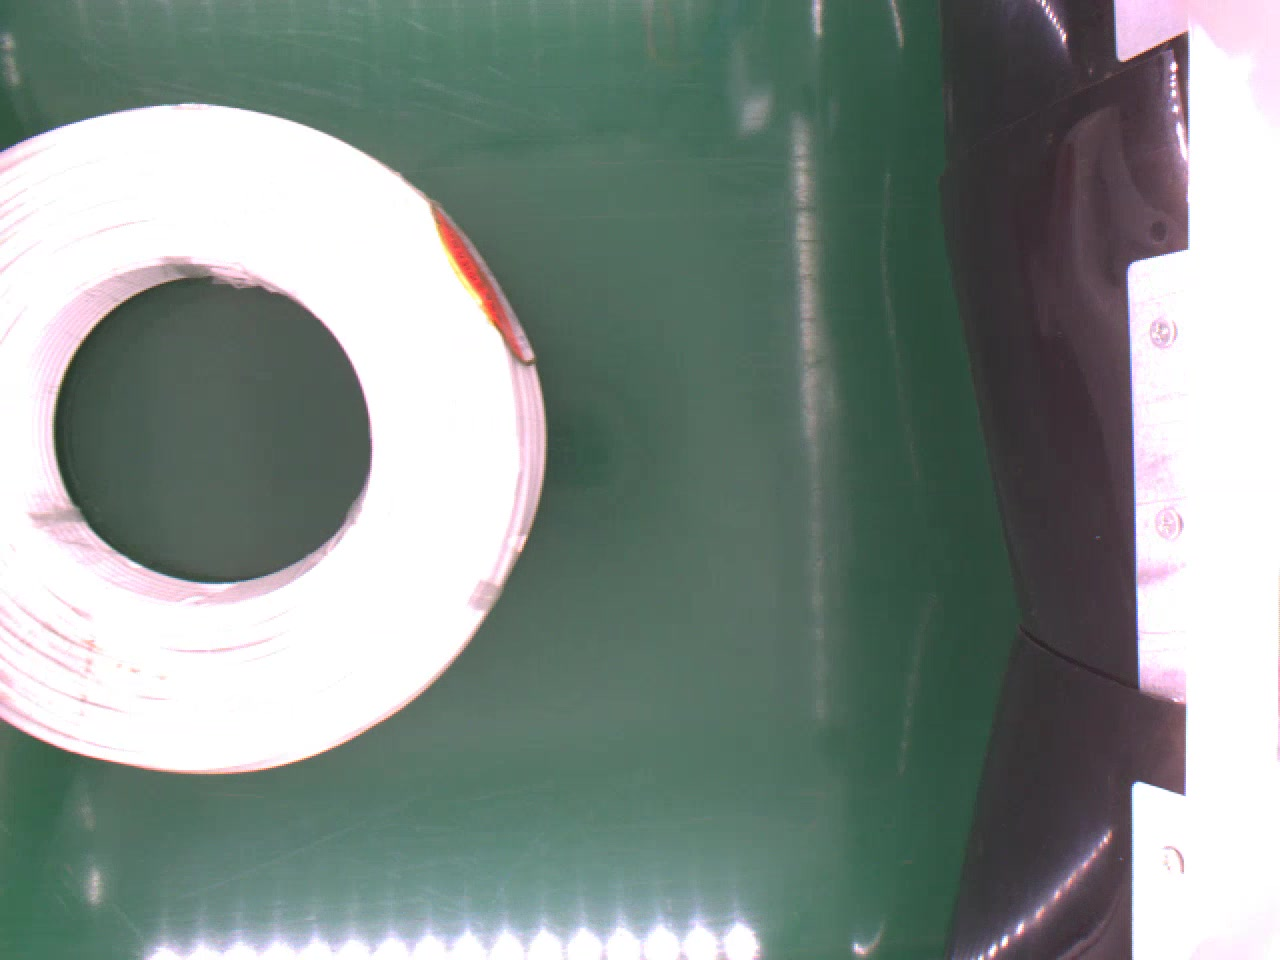white: (0, 97, 547, 783)
